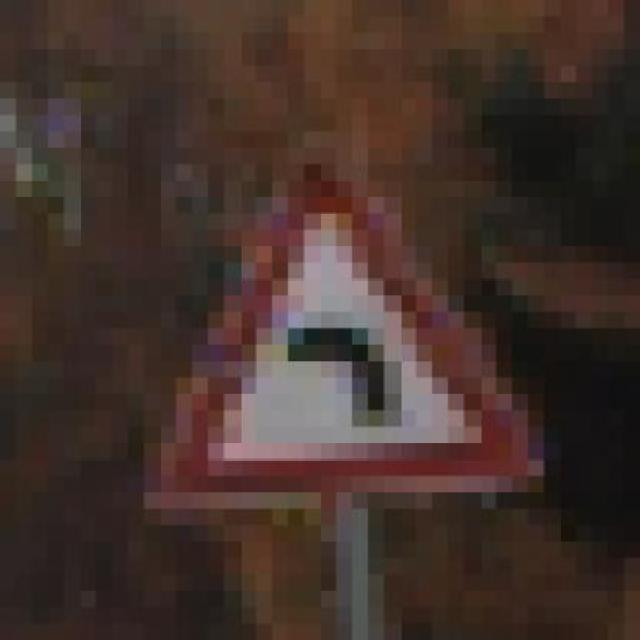Dangerous Left Curve Ahead: (96, 148, 544, 509)
